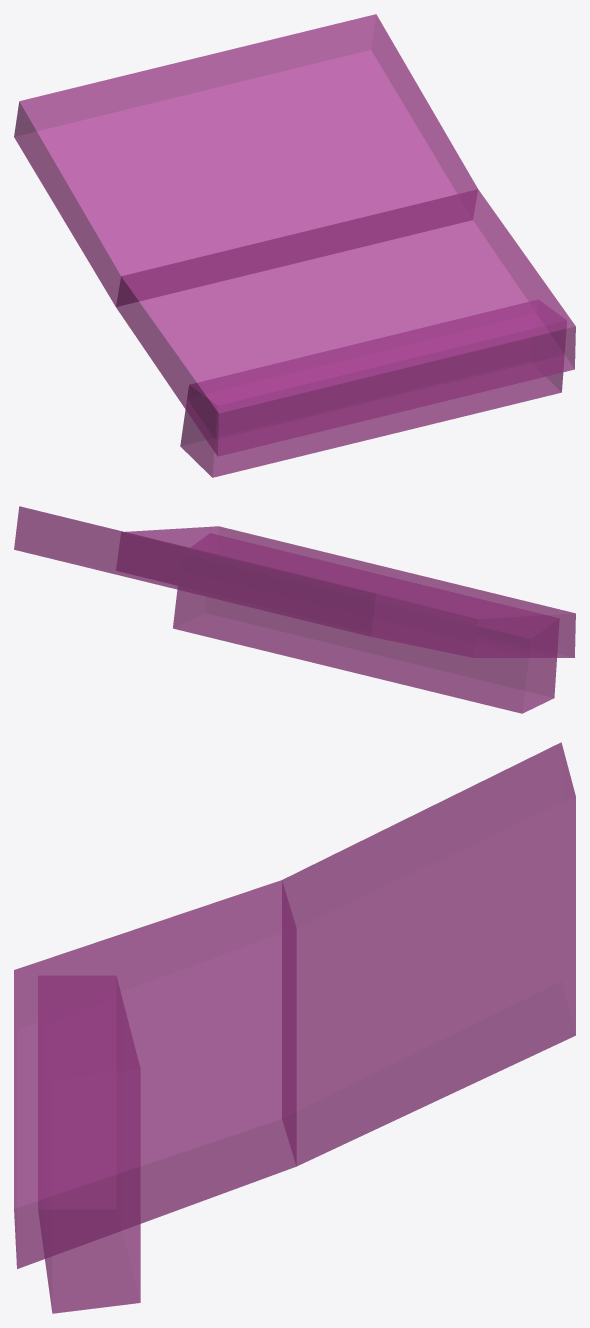
The model's file is SM_Bld_Roof_Edge_01_Collision_01.fbx.
The picture shows the model from 3 angles, top to bottom: view 1: azimuth 30°, elevation 25°; view 2: azimuth 150°, elevation 25°; view 3: azimuth 270°, elevation 25°; orthographic projection. The views are drawn at different scales.
Visible parts, largest first — view 1: SM_Bld_Roof_Edge_01_Collision_01; view 2: SM_Bld_Roof_Edge_01_Collision_01; view 3: SM_Bld_Roof_Edge_01_Collision_01.
Boxes of the visible parts, x1,y1,x2,y2 form: SM_Bld_Roof_Edge_01_Collision_01: (14, 14, 575, 477); SM_Bld_Roof_Edge_01_Collision_01: (14, 506, 575, 713); SM_Bld_Roof_Edge_01_Collision_01: (14, 742, 575, 1313).
Bounding box in the file's own units: 255 × 166 × 254.
